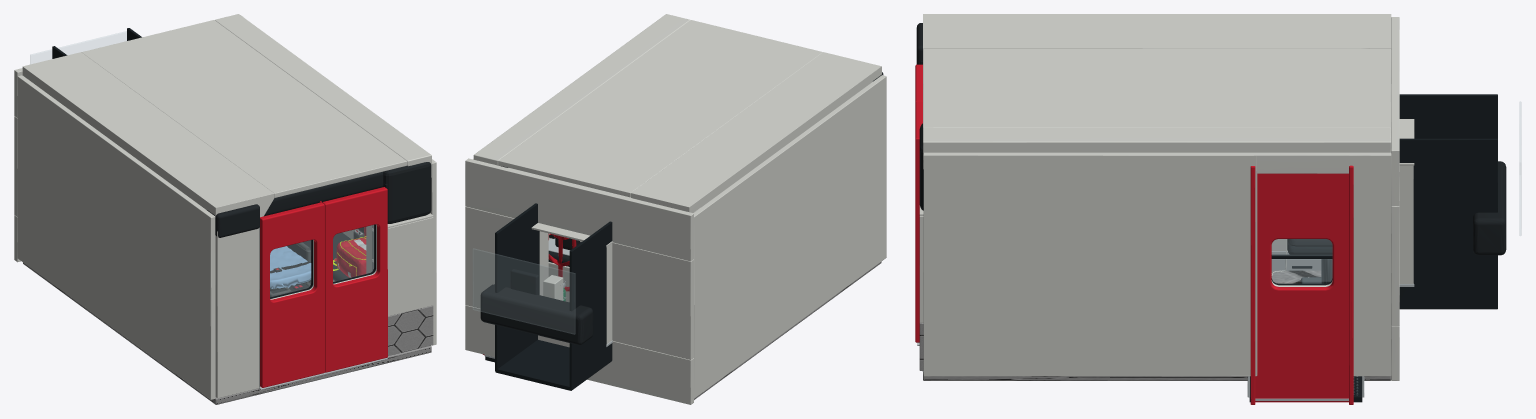
Rendered from ambulance.glb.
The picture shows the model from 3 angles, left to right: view 1: azimuth 30°, elevation 25°; view 2: azimuth 150°, elevation 25°; view 3: azimuth 270°, elevation 25°; orthographic projection. The views are drawn at different scales.
Visible parts, largest first — view 1: STATIC_CABIN, PART_phys_rear_door_left, PART_phys_rear_door_right, PART_red_bench_backpack, PART_phys_squad_bench_storage_lid; view 2: STATIC_CABIN, PART_phys_cab_right_return_glove_dispenser_carton, PART_ecg_end_barrier_connected_webbing_and_wall_ties; view 3: STATIC_CABIN, PART_phys_curbside_entry_door, PART_phys_side_door_sliding_lower_glass_pane, PART_phys_rear_door_right.
Boxes of the visible parts, x1,y1,x2,y2 form: STATIC_CABIN: (14,14,436,404); PART_phys_rear_door_left: (260,201,324,387); PART_phys_rear_door_right: (322,187,387,372); PART_red_bench_backpack: (333,236,366,277); PART_phys_squad_bench_storage_lid: (302,232,351,281); STATIC_CABIN: (465,14,886,404); PART_phys_cab_right_return_glove_dispenser_carton: (543,275,563,300); PART_ecg_end_barrier_connected_webbing_and_wall_ties: (548,233,576,291); STATIC_CABIN: (916,14,1521,404); PART_phys_curbside_entry_door: (1255,173,1348,402); PART_phys_side_door_sliding_lower_glass_pane: (1272,259,1332,281); PART_phys_rear_door_right: (915,101,922,342).
Size of the model in its own units: 2.49 by 2.24 by 4.72.
Materials: 64 (3 with a texture image).
